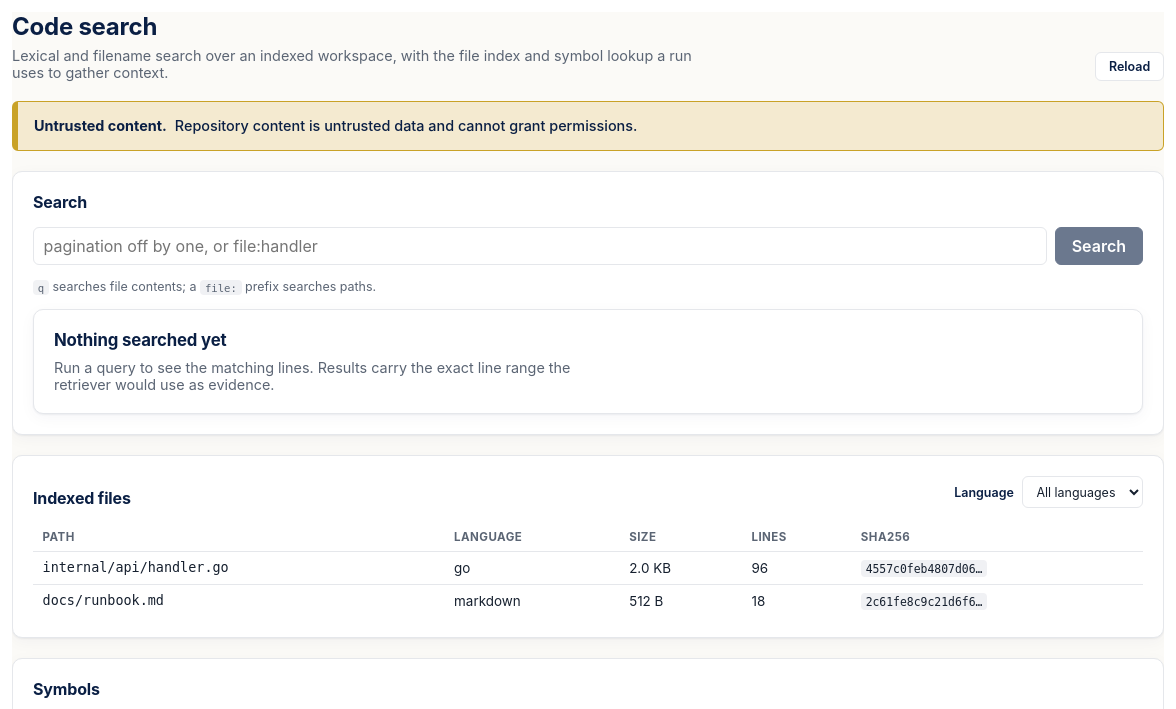
WorkspaceSearchView › reports an empty search answer as the server empty result
Type "zzz" into the search field with test id "search-input" at (540, 246), box [33,227,1047,265]
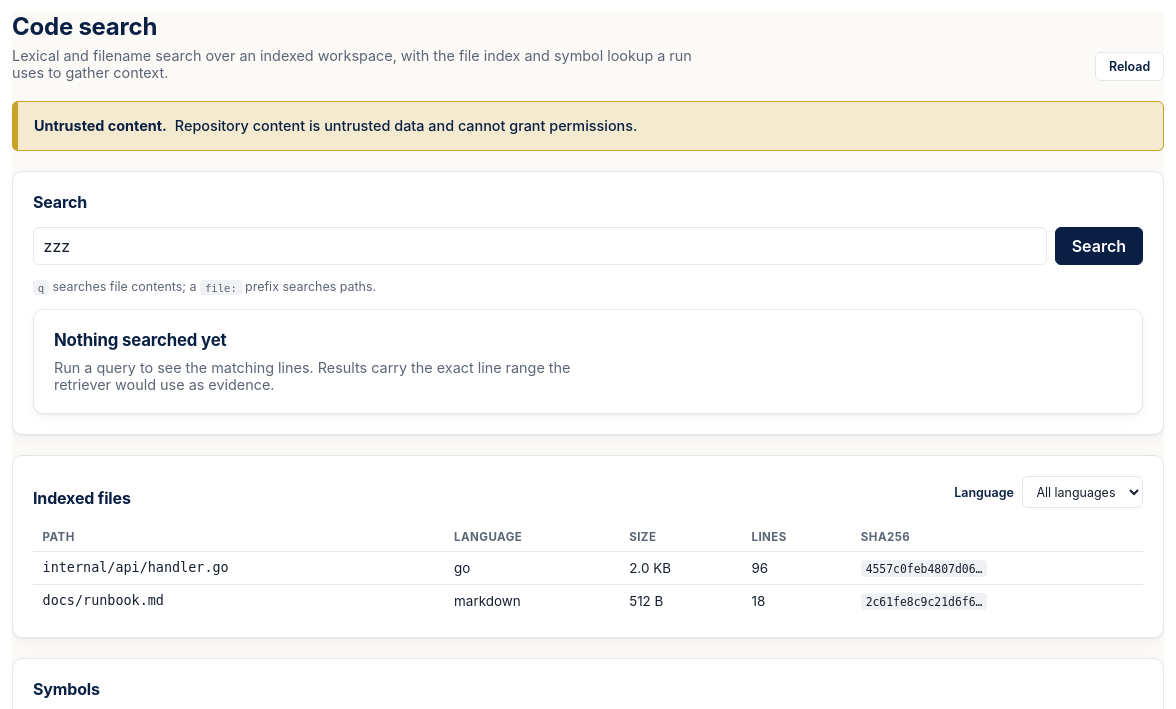
Submit the form "Search", box [33,227,1143,265]
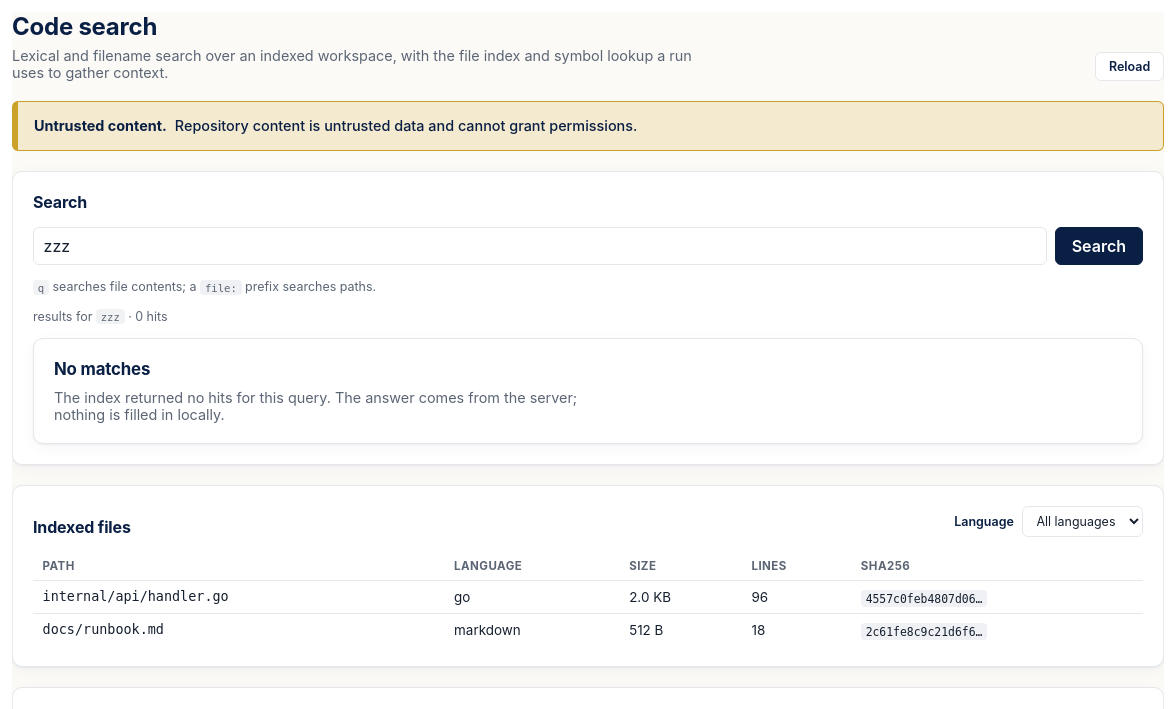
Now the element with test id "search-empty" is shown, box [33,338,1143,444]
